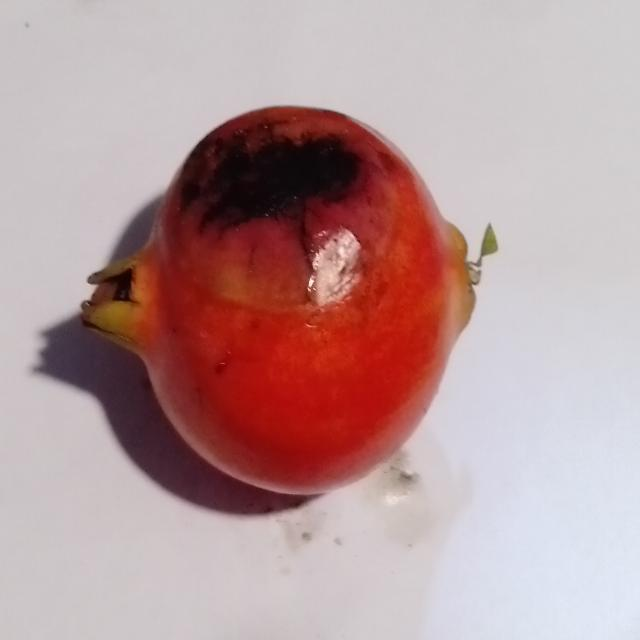Rotten: (77, 100, 485, 503)
